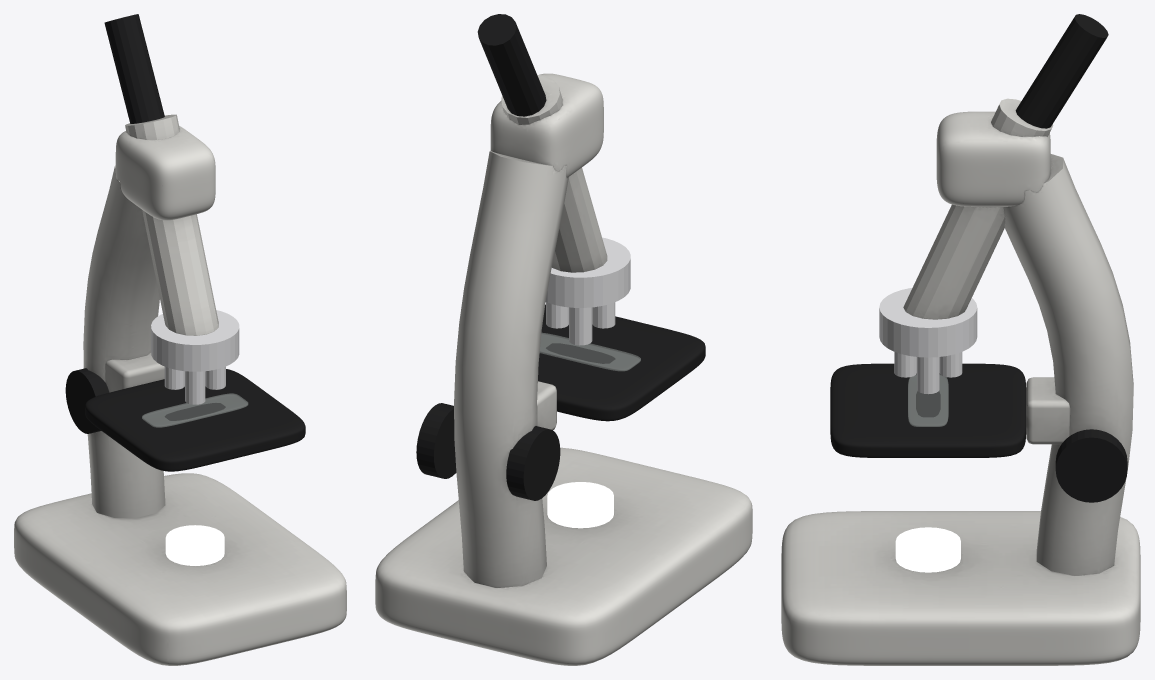
File: white.glb
3 views of the same model, side by side, from view 1: azimuth 30°, elevation 25°; view 2: azimuth 150°, elevation 25°; view 3: azimuth 270°, elevation 25° (orthographic). The views are drawn at different scales.
Parts seen in each view (by area): view 1: paint_primary_scope, scope_black, chrome, led_white, slide_glass; view 2: paint_primary_scope, scope_black, chrome, led_white, slide_glass; view 3: paint_primary_scope, scope_black, chrome, led_white, slide_glass.
Part boxes in pixels (left/top/right/bottom): paint_primary_scope: left=14, top=114, right=346, bottom=665; scope_black: left=65, top=14, right=305, bottom=471; chrome: left=151, top=310, right=239, bottom=404; led_white: left=165, top=525, right=224, bottom=565; slide_glass: left=142, top=393, right=247, bottom=427; paint_primary_scope: left=375, top=73, right=752, bottom=665; scope_black: left=416, top=14, right=705, bottom=500; chrome: left=545, top=237, right=630, bottom=345; led_white: left=547, top=482, right=613, bottom=528; slide_glass: left=540, top=333, right=640, bottom=370; paint_primary_scope: left=781, top=98, right=1140, bottom=665; scope_black: left=830, top=14, right=1127, bottom=502; chrome: left=879, top=287, right=977, bottom=394; led_white: left=895, top=527, right=960, bottom=572; slide_glass: left=908, top=374, right=948, bottom=426.
Bounding box in the file's own units: 0.16 × 0.406 × 0.22.
Materials: 5 (1 with a texture image).
